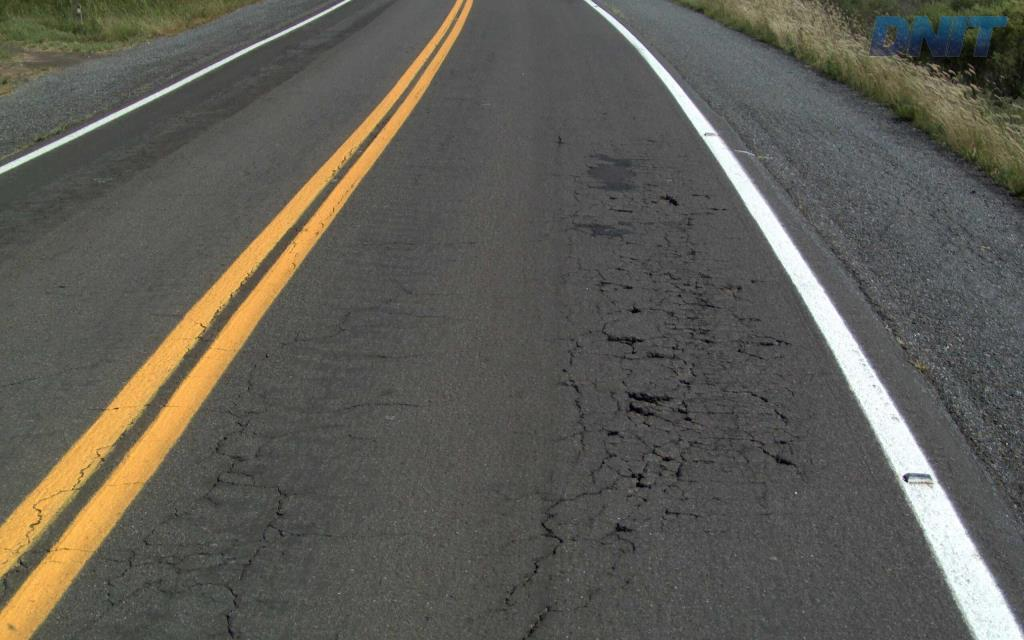crack: (522, 491, 566, 587), (613, 390, 704, 427), (743, 430, 808, 481), (682, 278, 721, 350), (719, 405, 751, 465), (570, 221, 632, 241)
